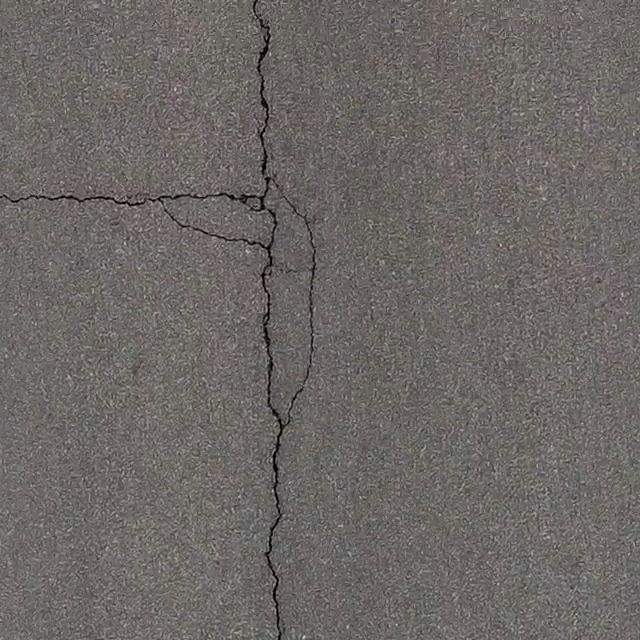GRIETA: (272, 179, 318, 427), (260, 210, 285, 639), (161, 202, 263, 247), (0, 192, 253, 208), (252, 0, 272, 201)
